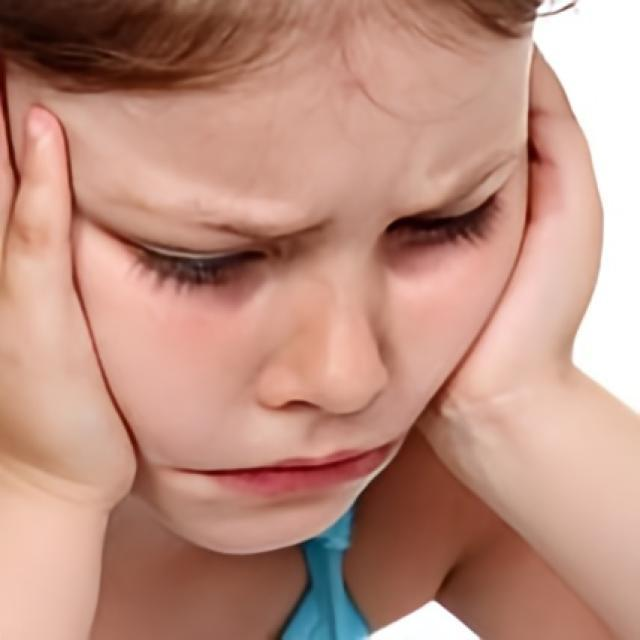sad: (5, 0, 532, 557)
